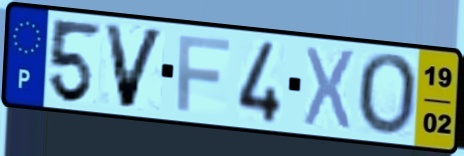4: (235, 38, 285, 125)
5: (44, 16, 105, 105)
F: (175, 33, 232, 114)
O: (355, 50, 421, 140)
V: (100, 20, 168, 111)
X: (301, 43, 359, 134)
